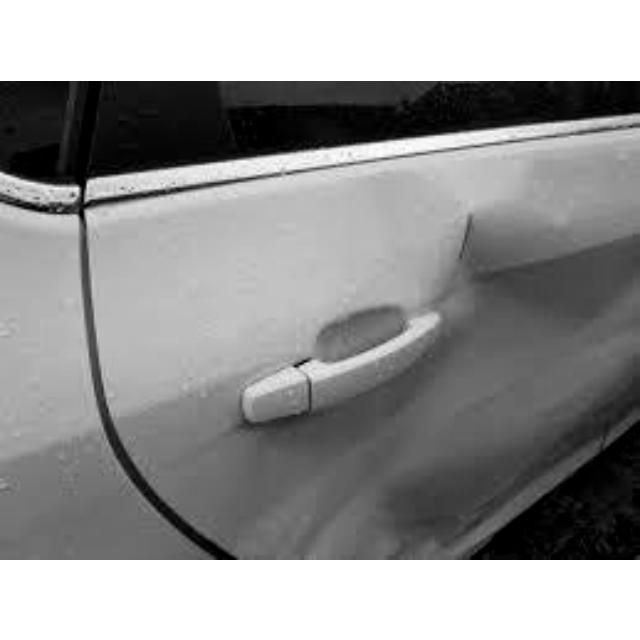doorouter-dent: (85, 160, 638, 513)
